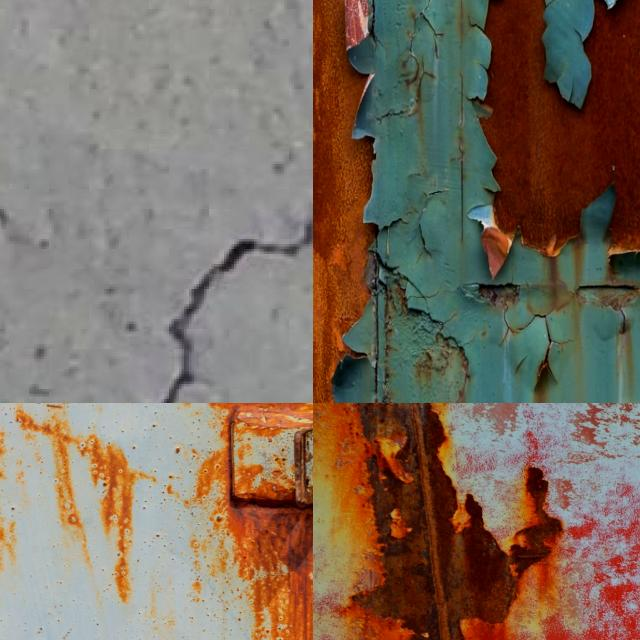Crack: (161, 220, 313, 403)
Uniform Corrosion: (360, 403, 510, 640), (220, 403, 313, 640), (509, 467, 562, 576)
